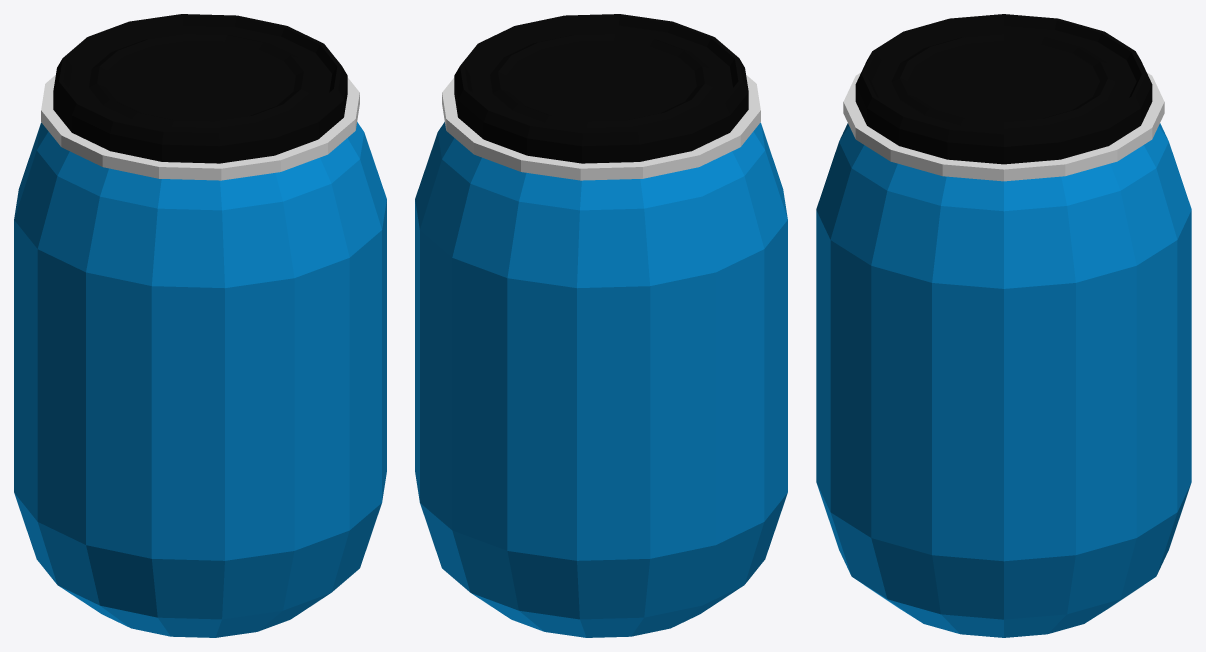
Rendered from FoodBarrel.fbx.
The picture shows the model from 3 angles, left to right: view 1: azimuth 30°, elevation 25°; view 2: azimuth 150°, elevation 25°; view 3: azimuth 270°, elevation 25°; orthographic projection.
Parts seen in each view (by area): view 1: Cylinder.001; view 2: Cylinder.001; view 3: Cylinder.001.
Boxes of the visible parts, bbox=[...] form: Cylinder.001: bbox=[14, 14, 386, 637]; Cylinder.001: bbox=[415, 14, 787, 637]; Cylinder.001: bbox=[816, 14, 1191, 637].
Size of the model in its own units: 200 by 303 by 200.
